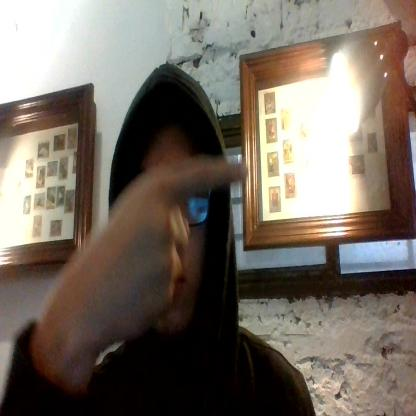left: (45, 151, 250, 341)
